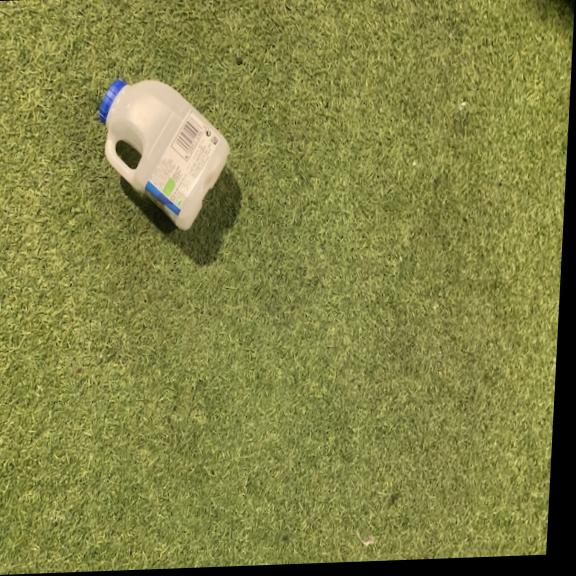Plastik: (88, 66, 242, 239)
